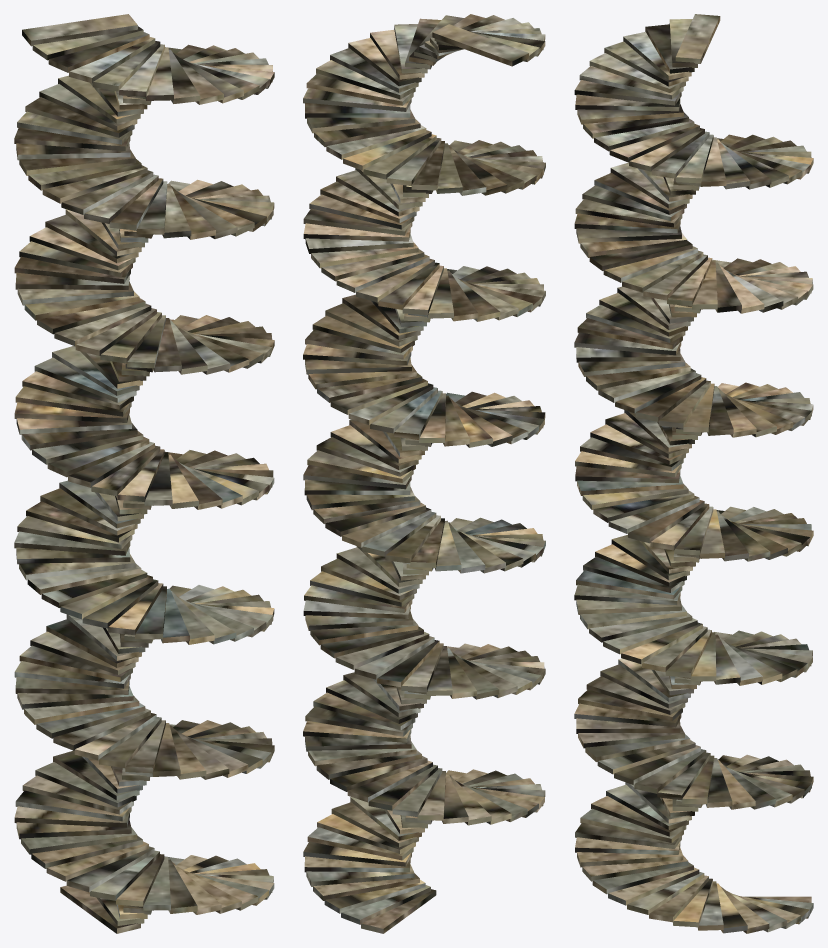
Rendered from SkyStair.fbx.
The picture shows the model from 3 angles, left to right: view 1: azimuth 30°, elevation 25°; view 2: azimuth 150°, elevation 25°; view 3: azimuth 270°, elevation 25°; orthographic projection. The views are drawn at different scales.
Parts seen in each view (by area): view 1: StairObj; view 2: StairObj; view 3: StairObj.
Boxes of the visible parts, x1=… form: StairObj: x1=14, y1=14, x2=274, y2=933; StairObj: x1=303, y1=14, x2=545, y2=933; StairObj: x1=574, y1=14, x2=813, y2=933.
Bounding box in the file's own units: 9.28 × 36.21 × 9.28.
